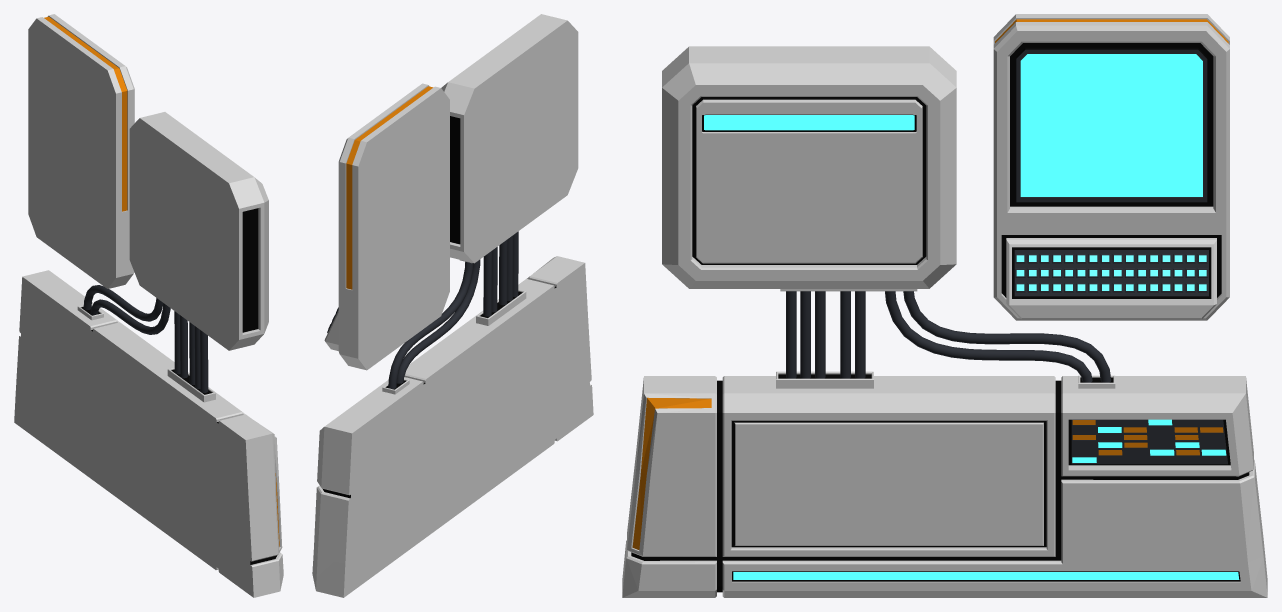
The model's file is SM_WallDecor_WallConsole_Small.glb.
3 views of the same model, side by side, from view 1: azimuth 30°, elevation 25°; view 2: azimuth 150°, elevation 25°; view 3: azimuth 270°, elevation 25° (orthographic). The views are drawn at different scales.
Visible parts, largest first — view 1: SM_WallDecor_WallConsole_Small.001; view 2: SM_WallDecor_WallConsole_Small.001; view 3: SM_WallDecor_WallConsole_Small.001.
Part boxes in pixels (x1,y1,x2,y2): SM_WallDecor_WallConsole_Small.001: [14, 14, 283, 597]; SM_WallDecor_WallConsole_Small.001: [312, 14, 593, 597]; SM_WallDecor_WallConsole_Small.001: [622, 14, 1267, 597].
Size of the model in its own units: 0.3701 by 3.87 by 4.
